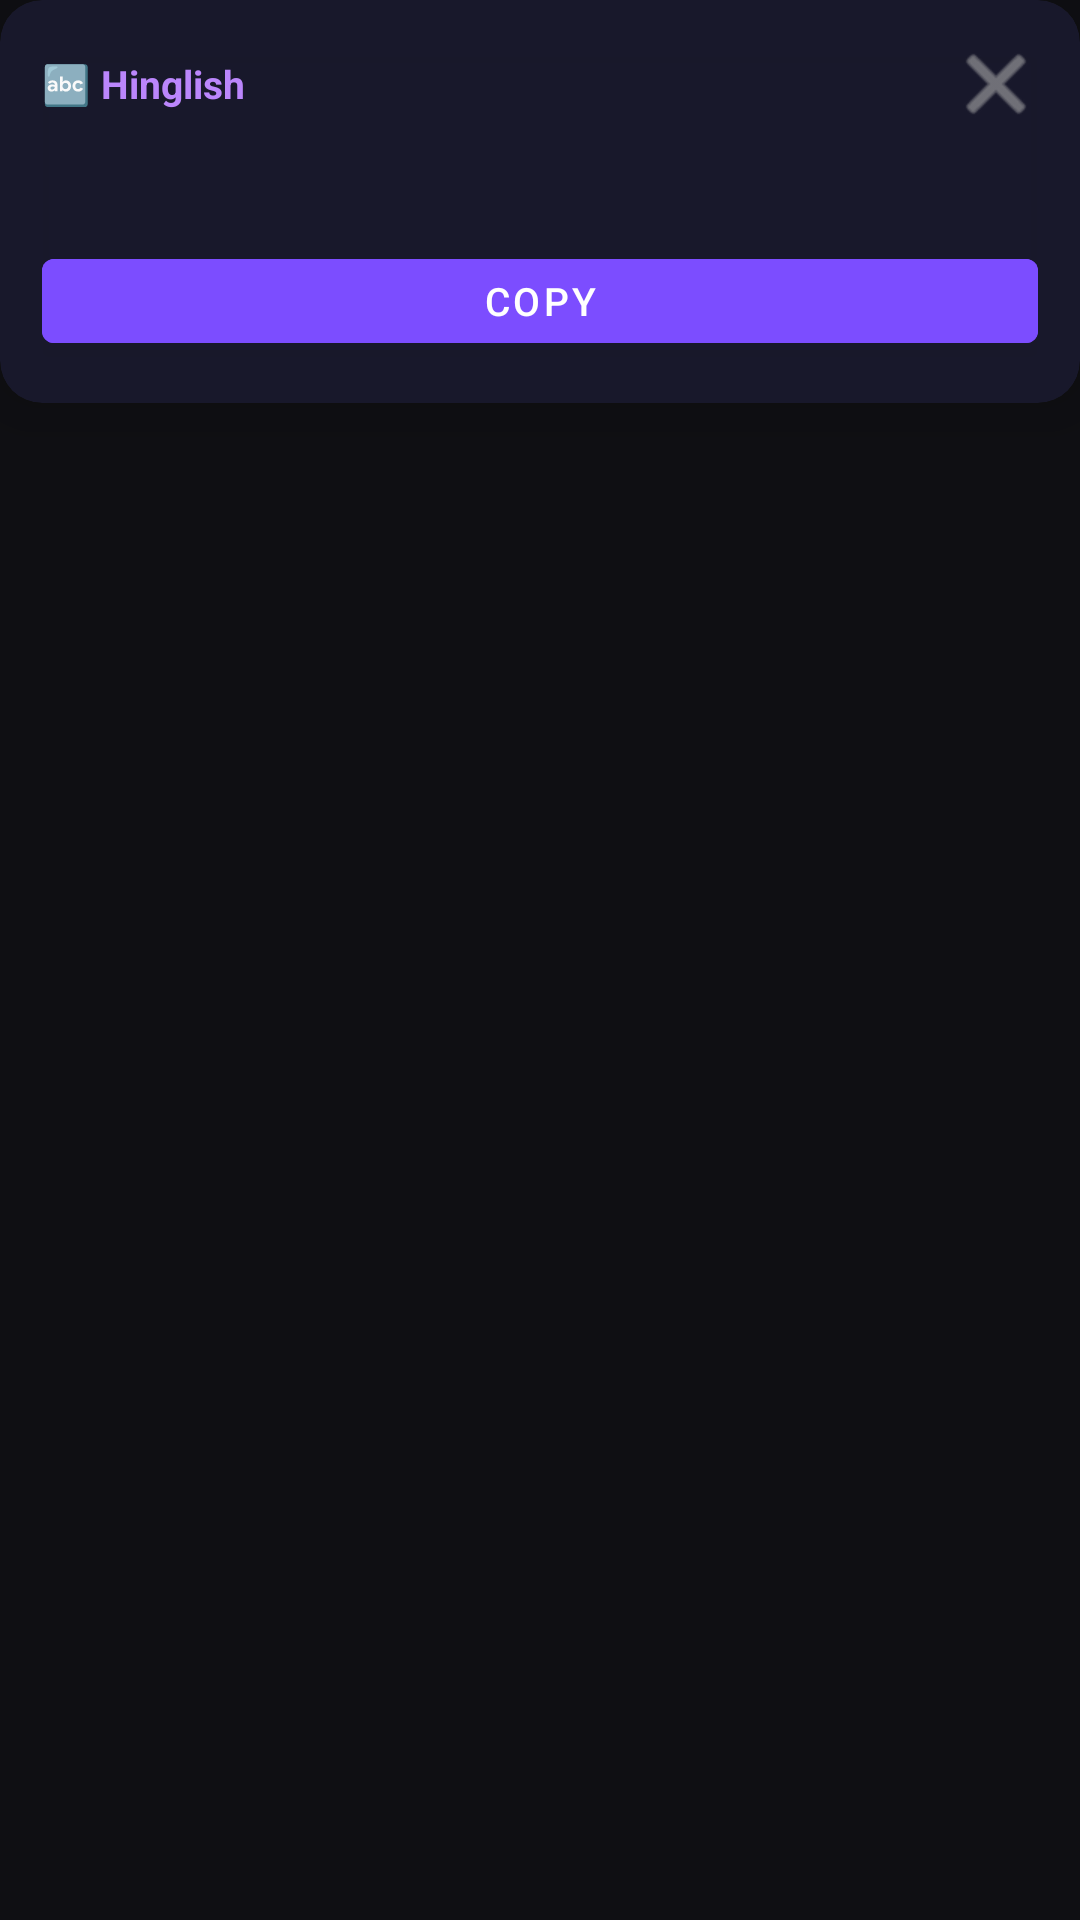

Where icons sit on this 1080×1920 app screen, as [x1, y1, x2, y2]:
Close: [966, 54, 1026, 114]
